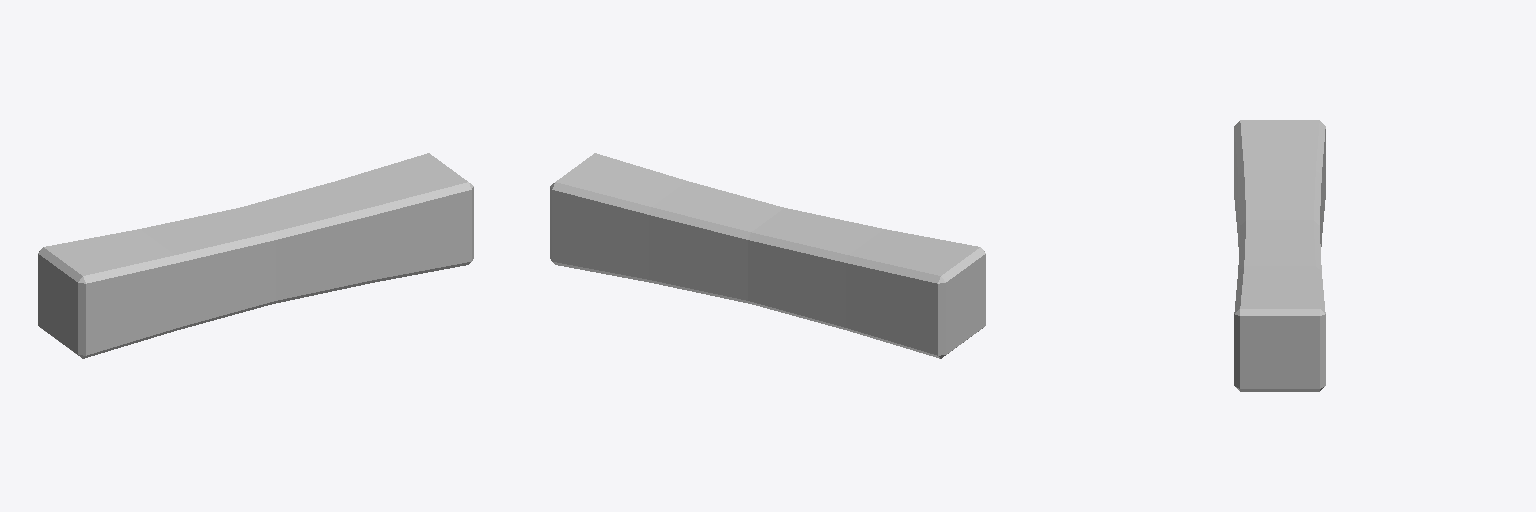
File: beam.obj
The picture shows the model from 3 angles: view 1: azimuth 30°, elevation 25°; view 2: azimuth 150°, elevation 25°; view 3: azimuth 270°, elevation 25°; orthographic projection.
Parts seen in each view (by area): view 1: defaultMaterial; view 2: defaultMaterial; view 3: defaultMaterial.
Part boxes in pixels (x1,y1,x2,y2): defaultMaterial: (38,153,473,358); defaultMaterial: (550,153,985,358); defaultMaterial: (1234,120,1325,391).
Size of the model in its own units: 5 by 1 by 1.